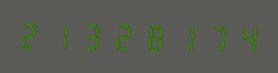eight: (137, 19, 166, 53)
four: (227, 21, 256, 55)
one: (167, 20, 196, 54), (47, 18, 76, 51)
seven: (197, 21, 226, 54)
three: (77, 18, 106, 52)
two: (17, 17, 46, 51), (107, 19, 136, 52)
